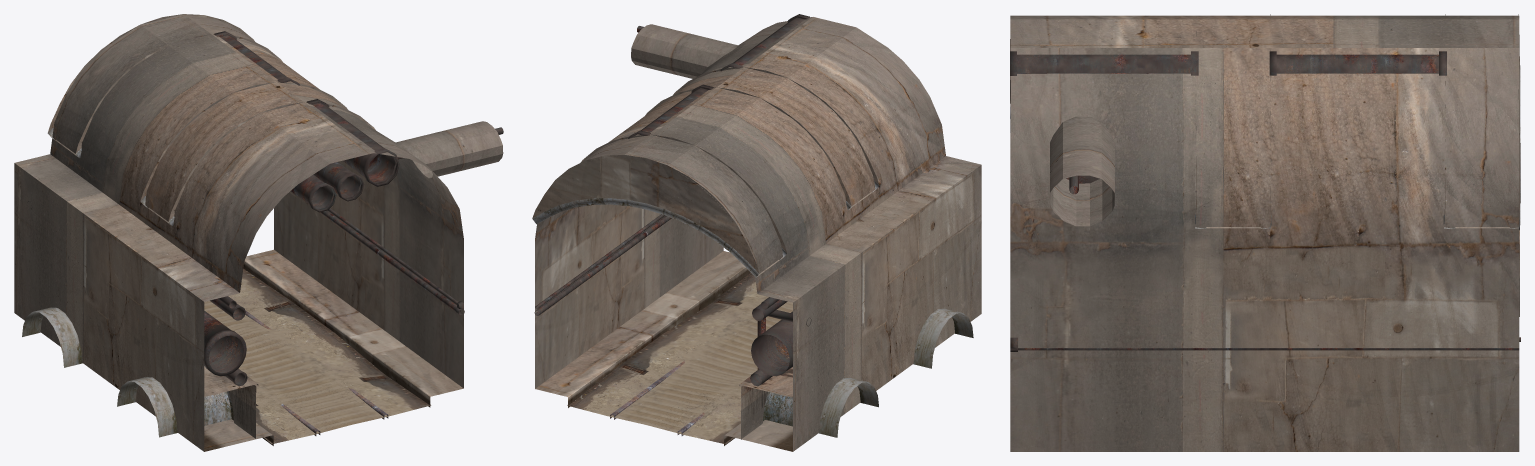
The model's file is FBX_straight_section_rev.fbx.
3 renders of one model, left to right at view 1: azimuth 30°, elevation 25°; view 2: azimuth 150°, elevation 25°; view 3: azimuth 270°, elevation 25°, orthographic. The views are drawn at different scales.
Visible parts, largest first — view 1: straight_section_tunnel, straight_section_ground_floor, straight_section_walkway, straight_section_drain_a, straight_section_pipe_roof_a, straight_section_pipe_drain_d, straight_section_drain_b, straight_section_pipe_wall_b, straight_section_pipe_roof_b, straight_section_arch_b, straight_section_arch_a, straight_section_pipe_roof_c (+3 smaller); view 2: straight_section_tunnel, straight_section_ground_floor, straight_section_walkway, straight_section_arch_b, straight_section_drain_b, straight_section_pipe_drain_d, straight_section_arch_b_bricks, straight_section_drain_a, straight_section_arch_a, straight_section_pipe_wall_b, straight_section_pipe_roof_a, straight_section_pipe_f (+2 smaller); view 3: straight_section_tunnel, straight_section_pipe_roof_a, straight_section_pipe_f, straight_section_pipe_wall_b.
Part boxes in pixels (x1,y1,x2,y2): straight_section_tunnel: [14, 14, 503, 451]; straight_section_ground_floor: [204, 269, 431, 443]; straight_section_walkway: [204, 249, 463, 451]; straight_section_drain_a: [117, 366, 258, 438]; straight_section_pipe_roof_a: [307, 99, 399, 186]; straight_section_pipe_drain_d: [204, 311, 246, 376]; straight_section_drain_b: [22, 307, 82, 367]; straight_section_pipe_wall_b: [320, 210, 464, 315]; straight_section_pipe_roof_b: [313, 162, 364, 201]; straight_section_arch_b: [48, 14, 282, 154]; straight_section_arch_a: [140, 82, 375, 222]; straight_section_pipe_roof_c: [291, 174, 336, 212]; straight_section_tunnel: [535, 17, 981, 451]; straight_section_ground_floor: [567, 272, 792, 444]; straight_section_walkway: [535, 251, 792, 451]; straight_section_arch_b: [532, 134, 786, 274]; straight_section_drain_b: [739, 367, 878, 439]; straight_section_pipe_drain_d: [751, 311, 792, 376]; straight_section_arch_b_bricks: [532, 198, 786, 277]; straight_section_drain_a: [913, 308, 973, 368]; straight_section_arch_a: [645, 67, 878, 207]; straight_section_pipe_wall_b: [534, 215, 671, 315]; straight_section_pipe_roof_a: [720, 14, 809, 71]; straight_section_pipe_f: [628, 84, 713, 138]; straight_section_tunnel: [1010, 15, 1519, 451]; straight_section_pipe_roof_a: [1010, 51, 1198, 103]; straight_section_pipe_f: [1269, 51, 1446, 75]; straight_section_pipe_wall_b: [1010, 337, 1519, 351].
Bounding box in the file's own units: 11.37 × 11.05 × 8.68.
